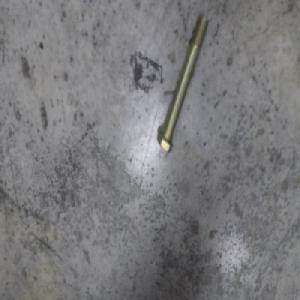Bolt: (158, 20, 207, 151)
